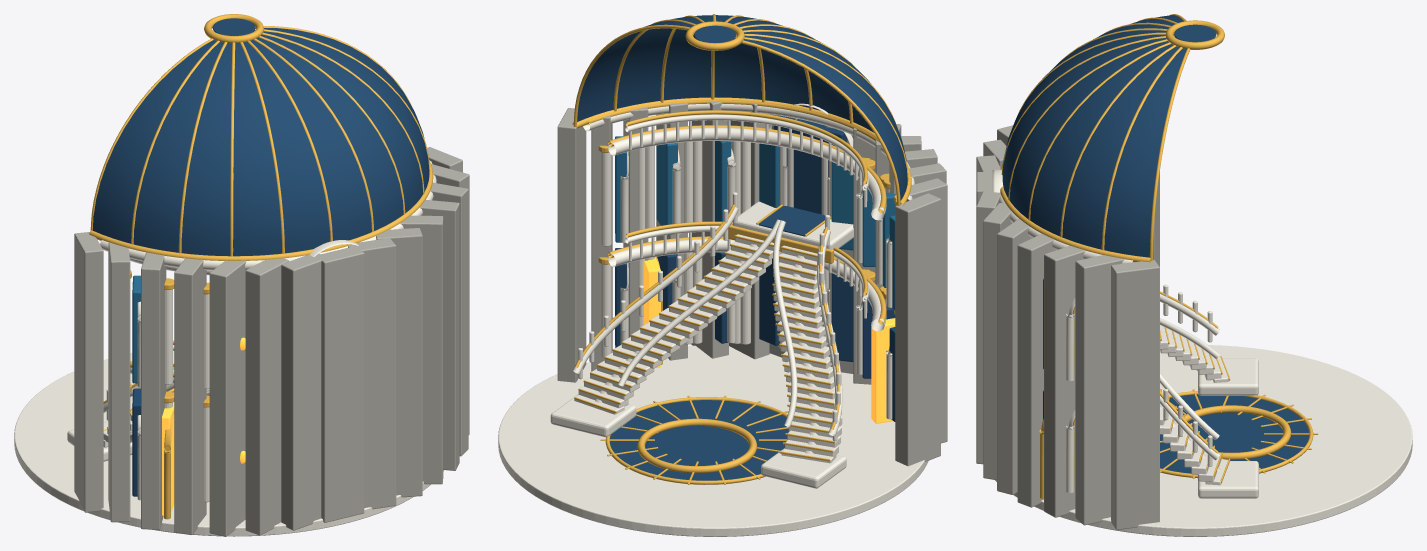
Rendered from vault-atrium.glb.
3 views of the same model, side by side, from view 1: azimuth 30°, elevation 25°; view 2: azimuth 150°, elevation 25°; view 3: azimuth 270°, elevation 25° (orthographic).
Visible parts, largest first — view 1: vault-palace-atrium-visible-main-dome-underside, vault-palace-atrium-deep-curved-wall-segment.007, vault-palace-atrium-deep-curved-wall-segment.006, vault-palace-atrium-deep-curved-wall-segment.005, vault-palace-atrium-deep-curved-wall-segment.004, vault-palace-atrium-polished-marble-floor, vault-palace-atrium-deep-curved-wall-segment.008, vault-palace-atrium-deep-curved-wall-segment.003, vault-palace-atrium-deep-curved-wall-segment, vault-palace-atrium-deep-curved-wall-segment.009, vault-palace-atrium-deep-curved-wall-segment.001, vault-palace-atrium-deep-curved-wall-segment.002 (+23 smaller); view 2: vault-palace-atrium-polished-marble-floor, vault-palace-atrium-visible-main-dome-underside, vault-palace-atrium-deep-curved-wall-segment, vault-palace-atrium-deep-curved-wall-segment.014, vault-palace-atrium-second-tall-floor-gallery-deep-blue-arch (×7), vault-palace-atrium-blue-floor-medallion, vault-palace-atrium-first-tall-floor-gallery-deep-blue-arche (×5), vault-palace-atrium-second-tall-floor-gallery-monumental-col (×6), vault-palace-atrium-second-tall-floor-gallery-deep-gallery-s, vault-palace-atrium-central-vault-descent-void, vault-palace-atrium-deep-curved-wall-segment.013, vault-palace-atrium-stair-substantial-inner-marble-balustrad (×2) (+38 smaller); view 3: vault-palace-atrium-visible-main-dome-underside, vault-palace-atrium-polished-marble-floor, vault-palace-atrium-deep-curved-wall-segment.014, vault-palace-atrium-deep-curved-wall-segment.013, vault-palace-atrium-deep-curved-wall-segment.012, vault-palace-atrium-deep-curved-wall-segment.011, vault-palace-atrium-deep-curved-wall-segment.010, vault-palace-atrium-deep-curved-wall-segment.009, vault-palace-atrium-blue-floor-medallion, vault-palace-atrium-central-vault-descent-void, vault-palace-atrium-deep-curved-wall-segment.008, vault-palace-atrium-lower-stair-landing (+15 smaller).
Part boxes in pixels (left/top/right/bottom): vault-palace-atrium-visible-main-dome-underside: left=92, top=27, right=429, bottom=256; vault-palace-atrium-deep-curved-wall-segment.007: left=317, top=246, right=364, bottom=522; vault-palace-atrium-deep-curved-wall-segment.006: left=281, top=253, right=321, bottom=530; vault-palace-atrium-deep-curved-wall-segment.005: left=245, top=258, right=288, bottom=535; vault-palace-atrium-deep-curved-wall-segment.004: left=209, top=260, right=246, bottom=536; vault-palace-atrium-polished-marble-floor: left=14, top=351, right=444, bottom=536; vault-palace-atrium-deep-curved-wall-segment.008: left=348, top=238, right=396, bottom=509; vault-palace-atrium-deep-curved-wall-segment.003: left=174, top=258, right=206, bottom=534; vault-palace-atrium-deep-curved-wall-segment: left=74, top=232, right=103, bottom=512; vault-palace-atrium-deep-curved-wall-segment.009: left=376, top=228, right=422, bottom=497; vault-palace-atrium-deep-curved-wall-segment.001: left=108, top=242, right=130, bottom=522; vault-palace-atrium-deep-curved-wall-segment.002: left=141, top=252, right=166, bottom=529; vault-palace-atrium-polished-marble-floor: left=498, top=345, right=928, bottom=536; vault-palace-atrium-visible-main-dome-underside: left=577, top=15, right=907, bottom=203; vault-palace-atrium-deep-curved-wall-segment: left=895, top=193, right=940, bottom=466; vault-palace-atrium-deep-curved-wall-segment.014: left=557, top=108, right=586, bottom=382; vault-palace-atrium-second-tall-floor-gallery-deep-blue-arch (×7): left=615, top=129, right=896, bottom=287; vault-palace-atrium-blue-floor-medallion: left=610, top=400, right=788, bottom=480; vault-palace-atrium-first-tall-floor-gallery-deep-blue-arche (×5): left=615, top=248, right=872, bottom=378; vault-palace-atrium-second-tall-floor-gallery-monumental-col (×6): left=601, top=141, right=750, bottom=246; vault-palace-atrium-second-tall-floor-gallery-deep-gallery-s: left=608, top=127, right=886, bottom=220; vault-palace-atrium-central-vault-descent-void: left=646, top=426, right=748, bottom=465; vault-palace-atrium-deep-curved-wall-segment.013: left=591, top=115, right=612, bottom=371; vault-palace-atrium-stair-substantial-inner-marble-balustrad (×2): left=618, top=219, right=797, bottom=426; vault-palace-atrium-visible-main-dome-underside: left=1002, top=15, right=1186, bottom=257; vault-palace-atrium-polished-marble-floor: left=995, top=345, right=1412, bottom=536; vault-palace-atrium-deep-curved-wall-segment.014: left=1111, top=259, right=1159, bottom=529; vault-palace-atrium-deep-curved-wall-segment.013: left=1075, top=255, right=1124, bottom=525; vault-palace-atrium-deep-curved-wall-segment.012: left=1044, top=245, right=1085, bottom=517; vault-palace-atrium-deep-curved-wall-segment.011: left=1017, top=233, right=1056, bottom=507; vault-palace-atrium-deep-curved-wall-segment.010: left=997, top=218, right=1031, bottom=494; vault-palace-atrium-deep-curved-wall-segment.009: left=983, top=203, right=1012, bottom=480; vault-palace-atrium-blue-floor-medallion: left=1160, top=394, right=1309, bottom=473; vault-palace-atrium-central-vault-descent-void: left=1188, top=412, right=1282, bottom=452; vault-palace-atrium-deep-curved-wall-segment.008: left=976, top=188, right=1000, bottom=464; vault-palace-atrium-lower-stair-landing: left=1198, top=358, right=1258, bottom=395.
Bounding box in the file's own units: 9.44 × 9.91 × 9.48.
